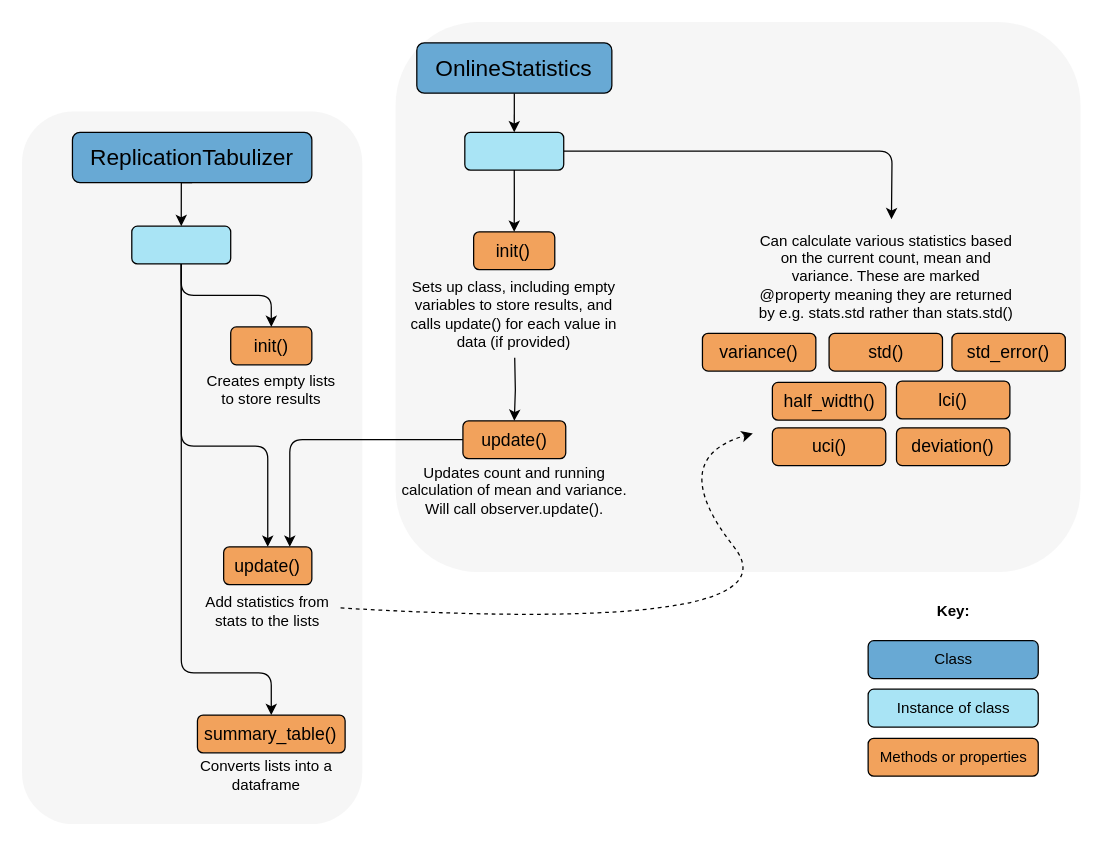
Some shapes in this 1101 by 845 pixel diagram are drawn without their labels. The shapes that lost their labels are listed below. From the top down, each one's centre as x and y in pixels, then its label:
point (514, 150): stats
point (181, 244): observer
